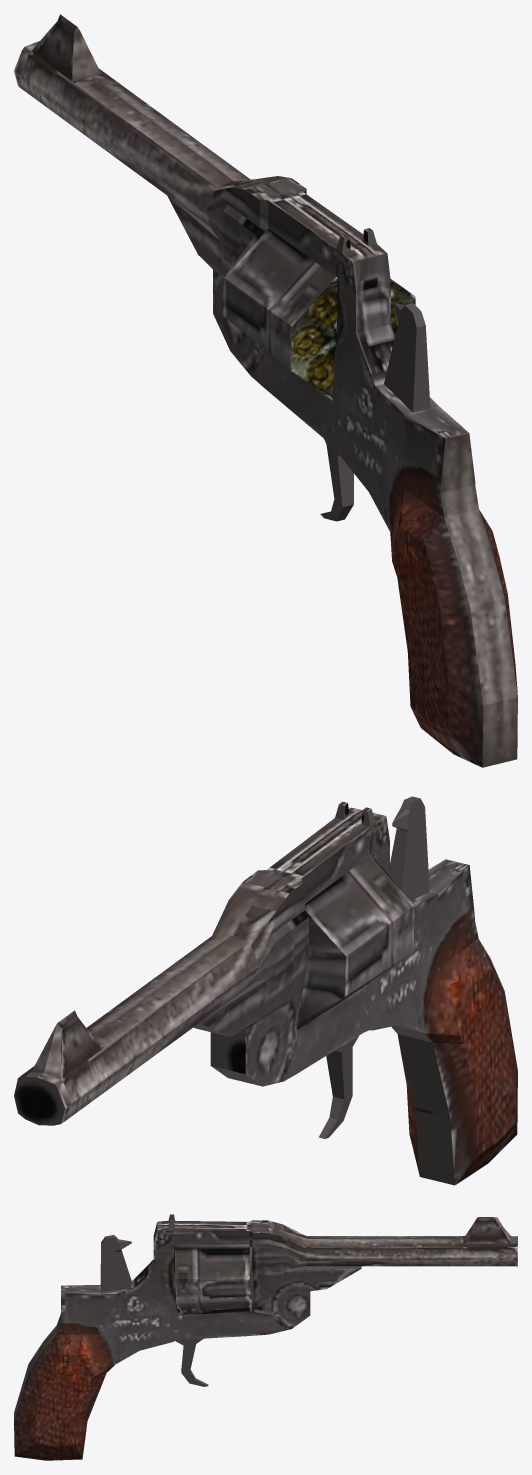
Rendered from clergy__catacombs_ps1-style_asset_pack.glb.
The picture shows the model from 3 angles, top to bottom: view 1: azimuth 30°, elevation 25°; view 2: azimuth 150°, elevation 25°; view 3: azimuth 270°, elevation 25°; orthographic projection. The views are drawn at different scales.
Visible parts, largest first — view 1: Cube; view 2: Cube; view 3: Cube.
Part boxes in pixels (box(x1,y1,x2,y2)): Cube: box(14, 14, 517, 767); Cube: box(14, 796, 517, 1185); Cube: box(14, 1214, 517, 1460).
Bounding box in the file's own units: 0.0674 × 0.2271 × 0.4337.
Materials: 1 (1 with a texture image).
